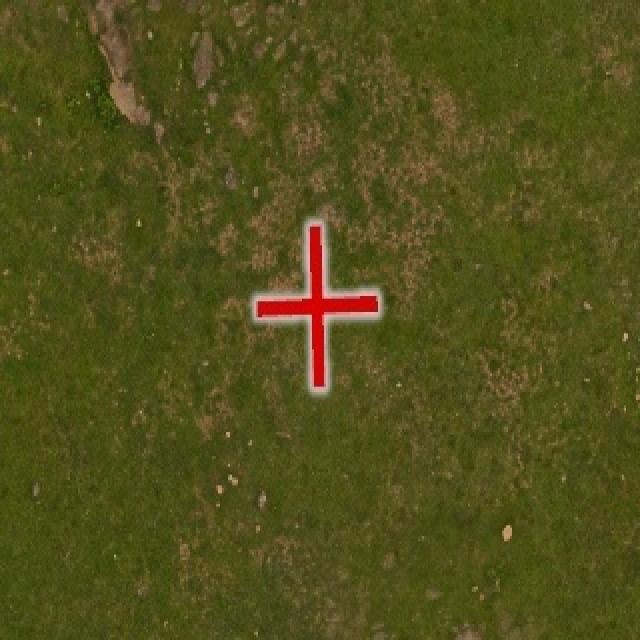x_marker: (255, 223, 377, 388)
